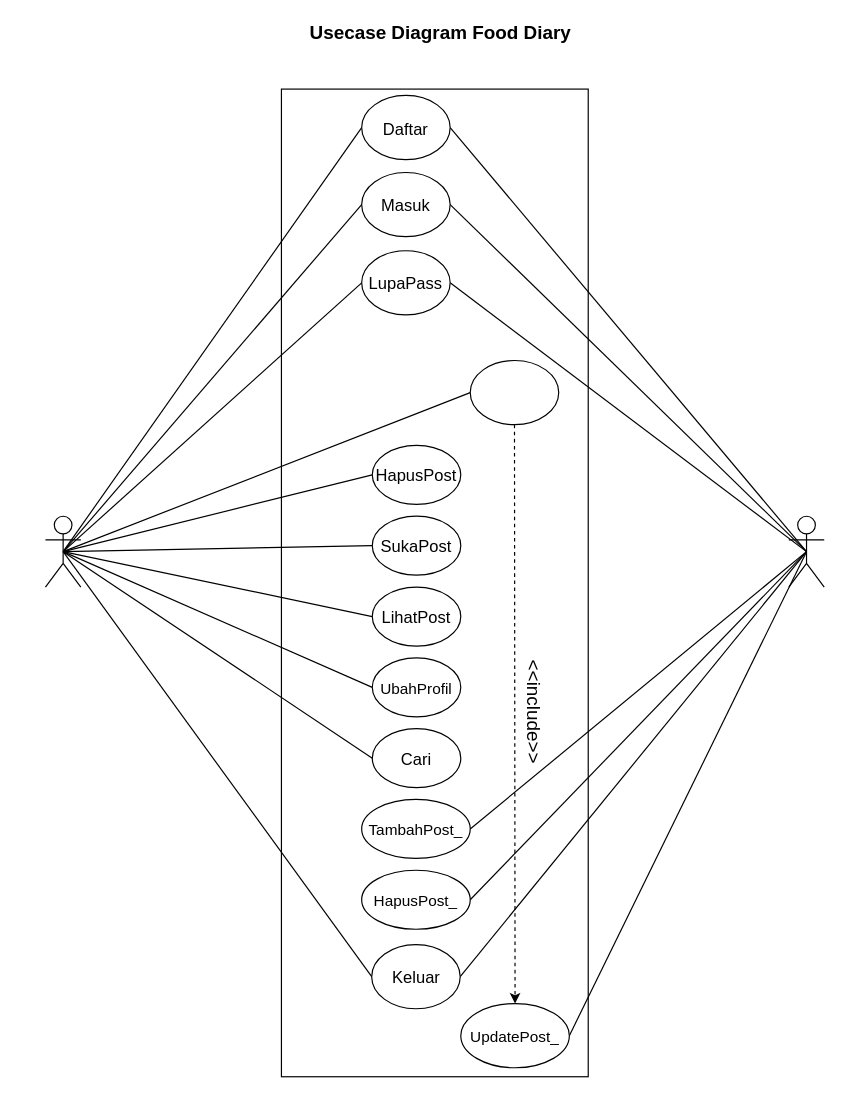
Some shapes in this 853 by 1097 pixel diagram are drawn without their labels. The shapes that lost their labels are listed below. From the top down, each one's centre as x and y in pixels, then its label:
(x=514, y=392): BuatPost
(x=62, y=551): Pengguna
(x=806, y=551): Admin
